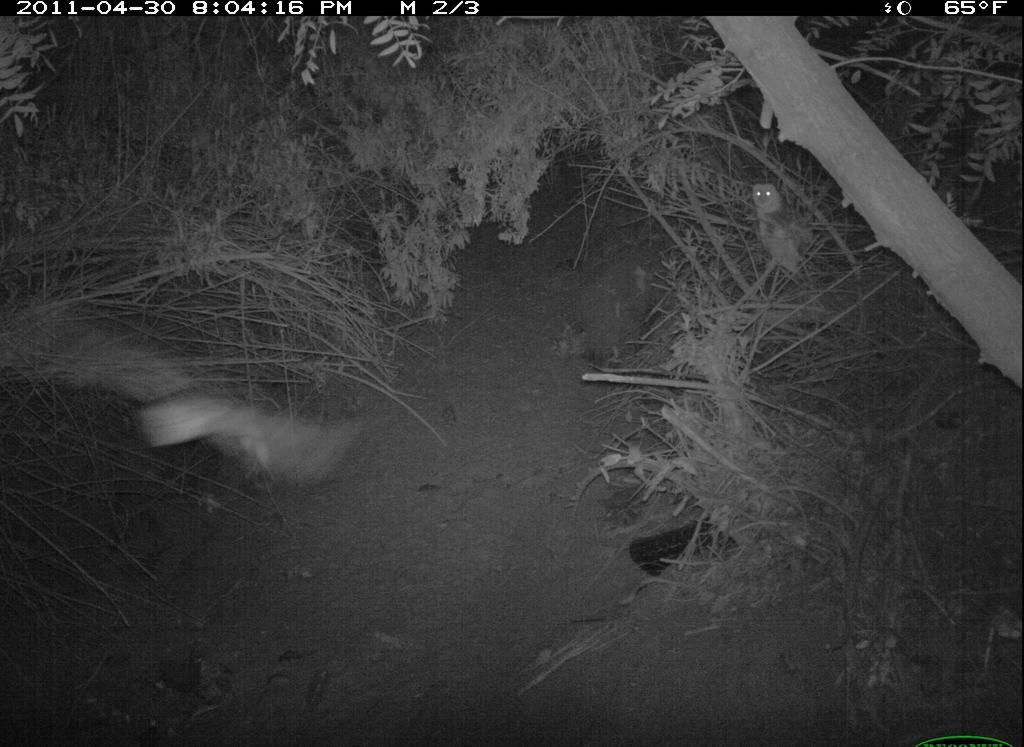bird: (743, 171, 830, 292)
